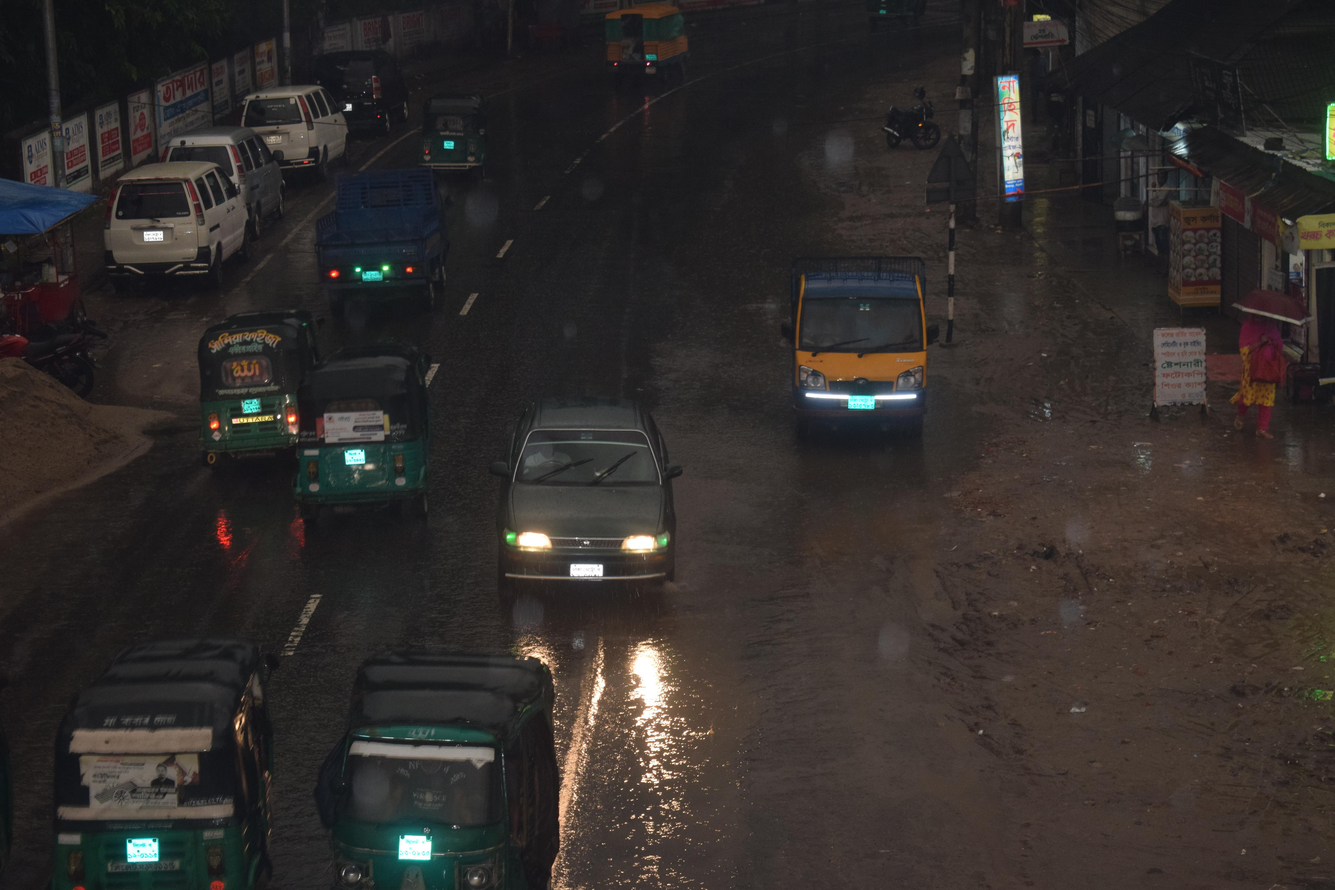Bike: (861, 74, 962, 174)
Car: (441, 359, 732, 638), (86, 156, 260, 321), (152, 114, 295, 246), (228, 71, 352, 190), (580, 0, 713, 92)
Truck: (754, 236, 968, 467), (292, 153, 491, 313)
